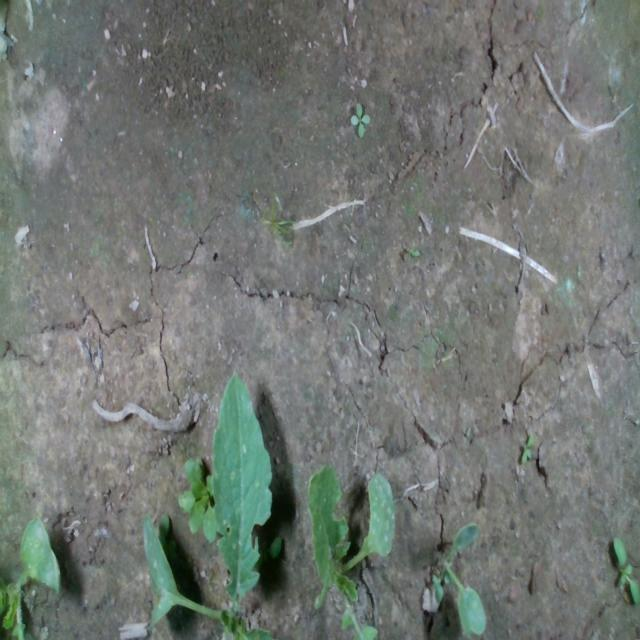weed: (348, 99, 369, 137), (520, 432, 534, 464)
